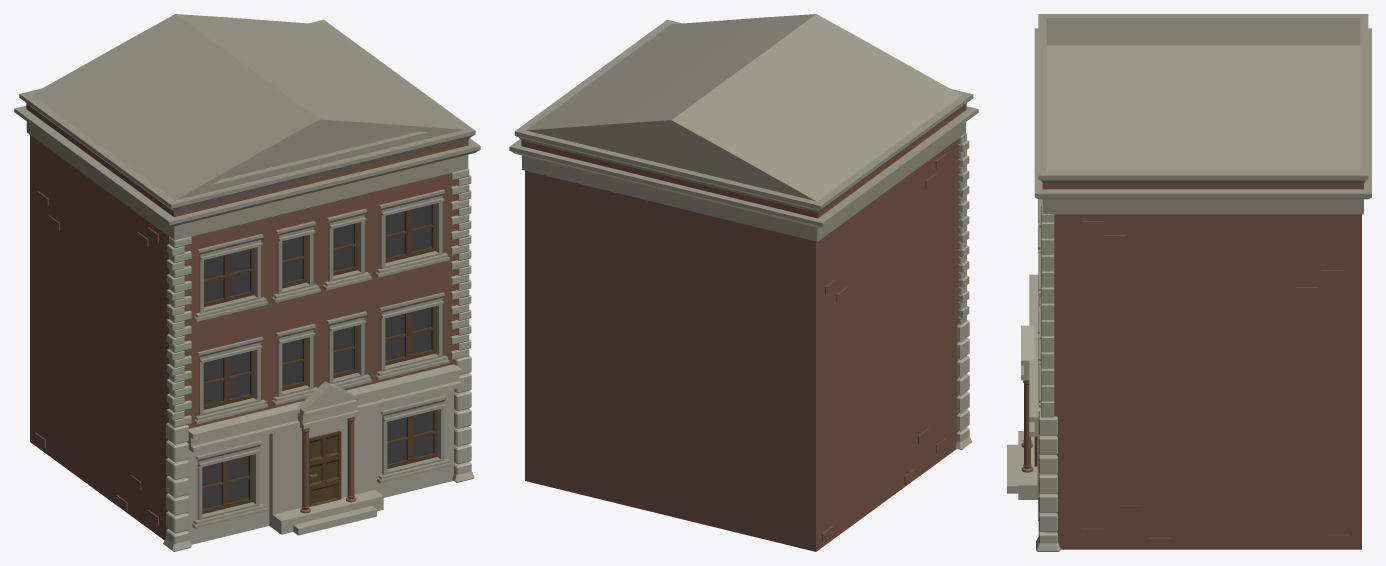
File: Building3_Big.glb
The picture shows the model from 3 angles, left to right: view 1: azimuth 30°, elevation 25°; view 2: azimuth 150°, elevation 25°; view 3: azimuth 270°, elevation 25°; orthographic projection. The views are drawn at different scales.
Parts seen in each view (by area): view 1: Building3_Big; view 2: Building3_Big; view 3: Building3_Big.
Boxes of the visible parts, left/top/right/bottom form: Building3_Big: left=14, top=14, right=480, bottom=551; Building3_Big: left=509, top=14, right=978, bottom=551; Building3_Big: left=1007, top=14, right=1371, bottom=551.
Size of the model in its own units: 471 by 568 by 439.
